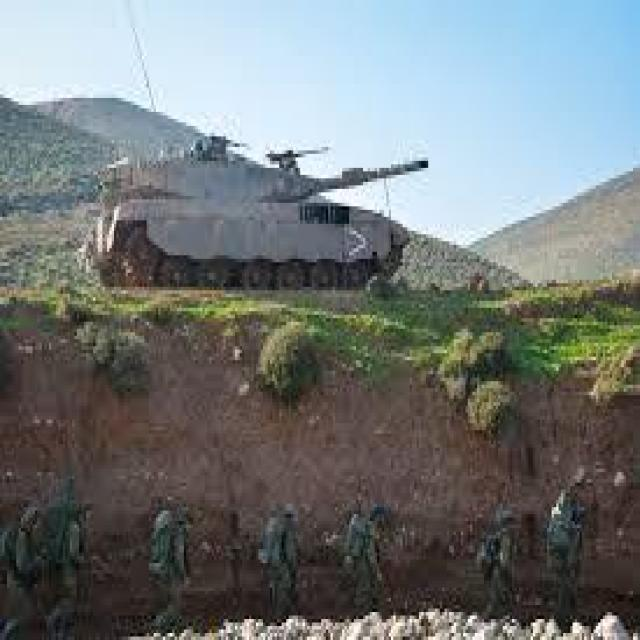Tanks: (86, 119, 447, 290)
